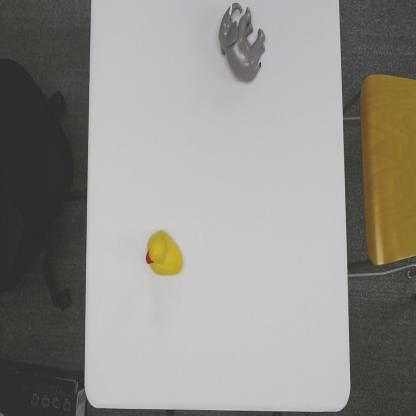Duck: (144, 226, 185, 278)
Elephant: (218, 0, 266, 86)
